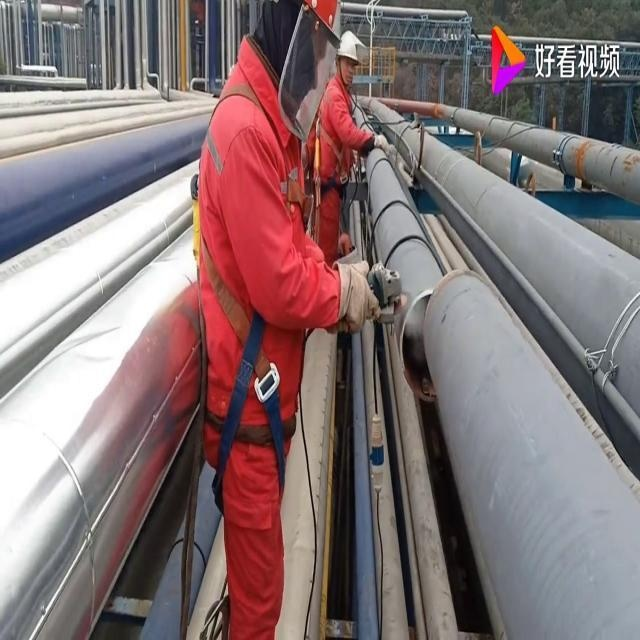Arnes_seguridad: (189, 77, 317, 500), (312, 75, 354, 209)
